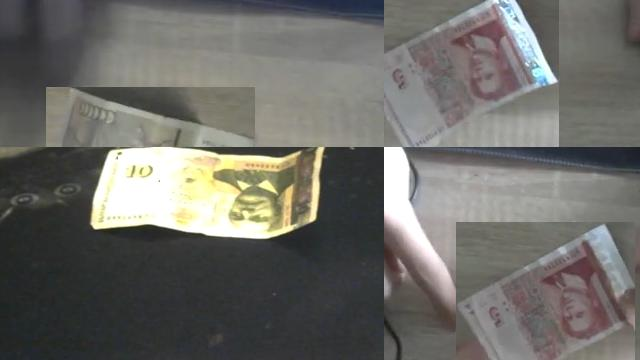10leva: (60, 87, 255, 147), (212, 159, 302, 233), (119, 157, 160, 182)
5leva: (384, 0, 559, 147), (456, 222, 635, 360)
